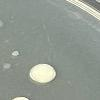white: (30, 63, 55, 84), (13, 95, 31, 100)
